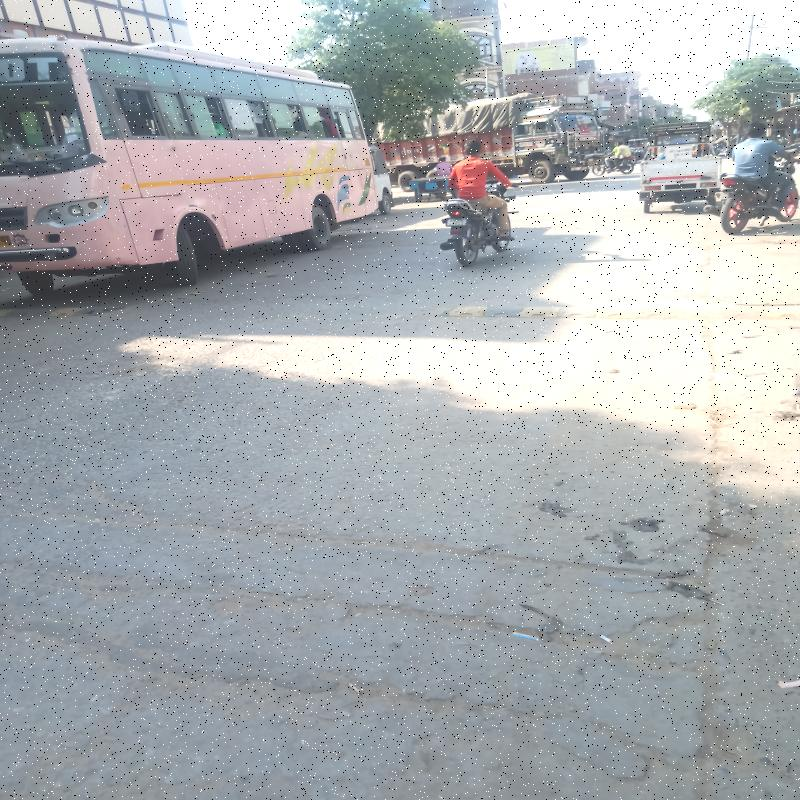bus: (0, 71, 377, 268)
